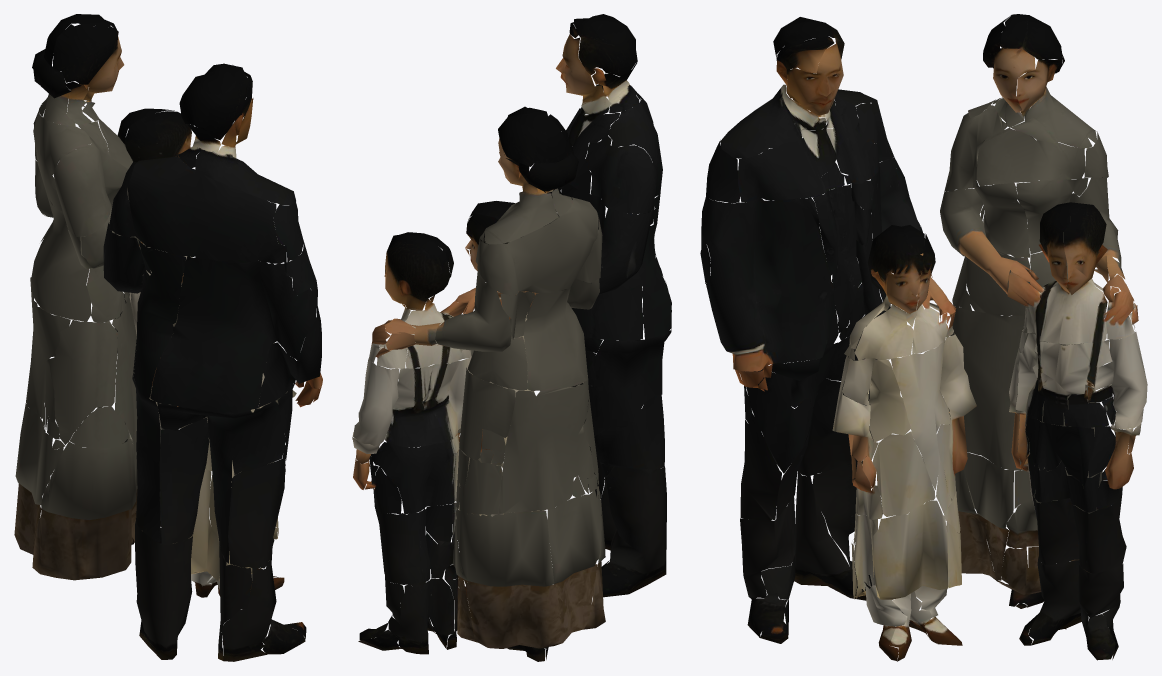
Rendered from Prop_Portrait_Family.glb.
3 renders of one model, left to right at view 1: azimuth 30°, elevation 25°; view 2: azimuth 150°, elevation 25°; view 3: azimuth 270°, elevation 25°, orthographic. The views are drawn at different scales.
Parts seen in each view (by area): view 1: tripo_node_cad5bc9a-00b8-439a-afc6-6402c246f07b; view 2: tripo_node_cad5bc9a-00b8-439a-afc6-6402c246f07b; view 3: tripo_node_cad5bc9a-00b8-439a-afc6-6402c246f07b.
Boxes of the visible parts, x1,y1,x2,y2 form: tripo_node_cad5bc9a-00b8-439a-afc6-6402c246f07b: (14, 14, 322, 661); tripo_node_cad5bc9a-00b8-439a-afc6-6402c246f07b: (352, 14, 671, 661); tripo_node_cad5bc9a-00b8-439a-afc6-6402c246f07b: (700, 14, 1147, 661).
Size of the model in its own units: 0.367 by 1 by 0.6873.
1 material, 1 textured.
